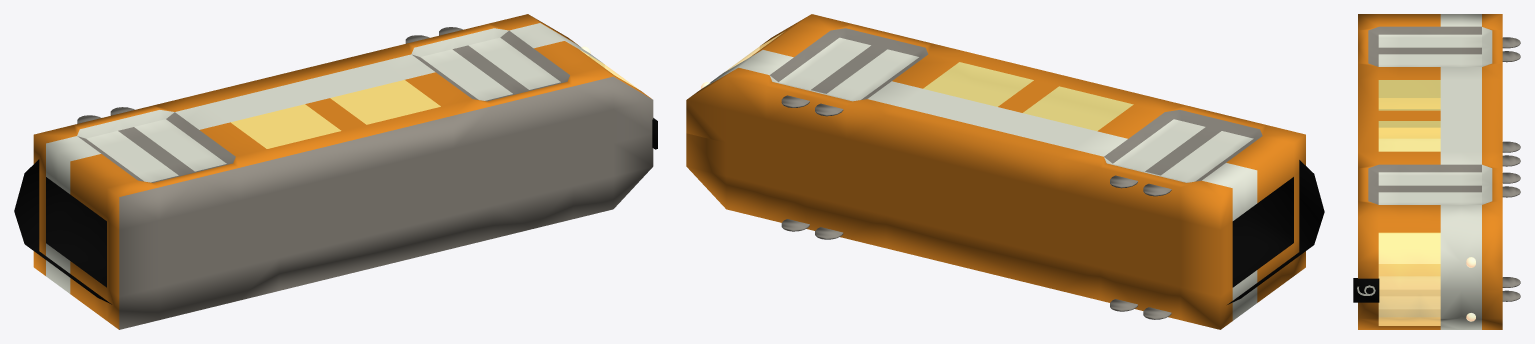
The model's file is asset20.glb.
3 views of the same model, side by side, from view 1: azimuth 30°, elevation 25°; view 2: azimuth 150°, elevation 25°; view 3: azimuth 270°, elevation 25° (orthographic). The views are drawn at different scales.
Parts seen in each view (by area): view 1: Cylinder4_sep14, Cylinder4_sep15, Cylinder4; view 2: Cylinder4_sep14, Cylinder4_sep15, Cylinder4; view 3: Cylinder4_sep14, Cylinder4_sep15, Cylinder4, Cube4, Cylinder4_sep11, Cylinder4_sep9, Cylinder4_sep10, Cylinder4_sep8, Cylinder4_sep6, Cylinder4_sep13, Cylinder4_sep7, Cylinder4_sep12.
Part boxes in pixels (x1,y1,x2,y2): Cylinder4_sep14: (33,14,653,263); Cylinder4_sep15: (33,103,653,329); Cylinder4: (14,159,111,304); Cylinder4_sep14: (686,14,1305,263); Cylinder4_sep15: (686,133,1305,329); Cylinder4: (1227,160,1324,304); Cylinder4_sep14: (1358,14,1502,290); Cylinder4_sep15: (1358,98,1502,329); Cylinder4: (1379,80,1439,126); Cube4: (1353,278,1379,302); Cylinder4_sep11: (1502,155,1520,166); Cylinder4_sep9: (1502,186,1520,197); Cylinder4_sep10: (1502,141,1520,152); Cylinder4_sep8: (1502,172,1520,183); Cylinder4_sep6: (1502,37,1520,48); Cylinder4_sep13: (1502,290,1520,301); Cylinder4_sep7: (1502,51,1520,62); Cylinder4_sep12: (1502,277,1520,287).
Size of the model in its own units: 1.01 by 0.2268 by 0.3068.
